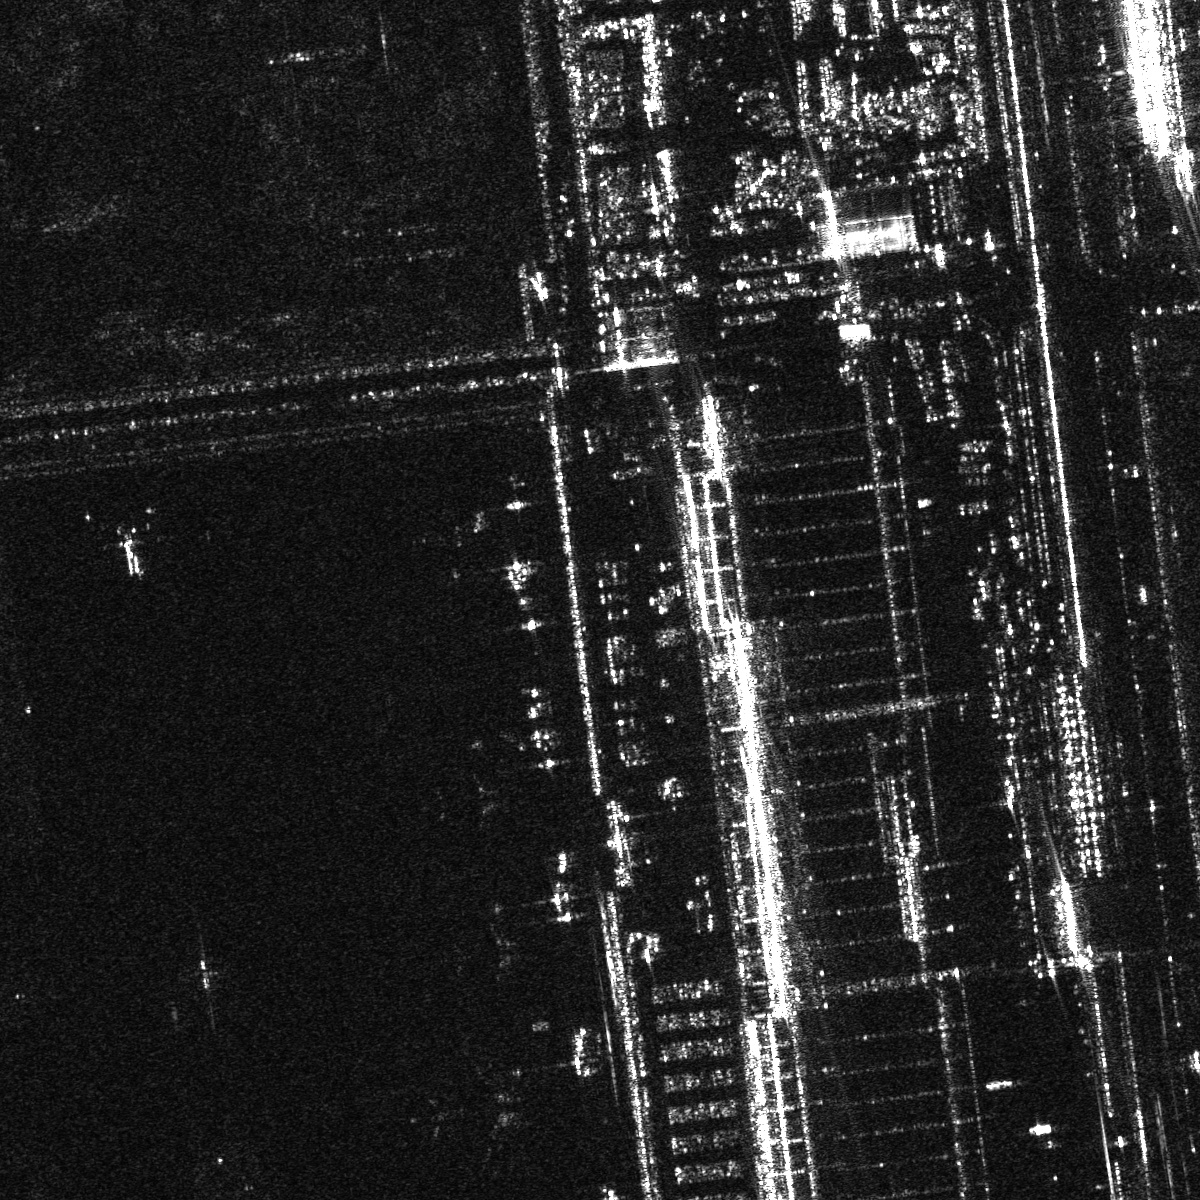Boeing787: (410, 1055, 534, 1174), (433, 759, 514, 829), (454, 919, 529, 980)
other: (100, 520, 155, 577)
